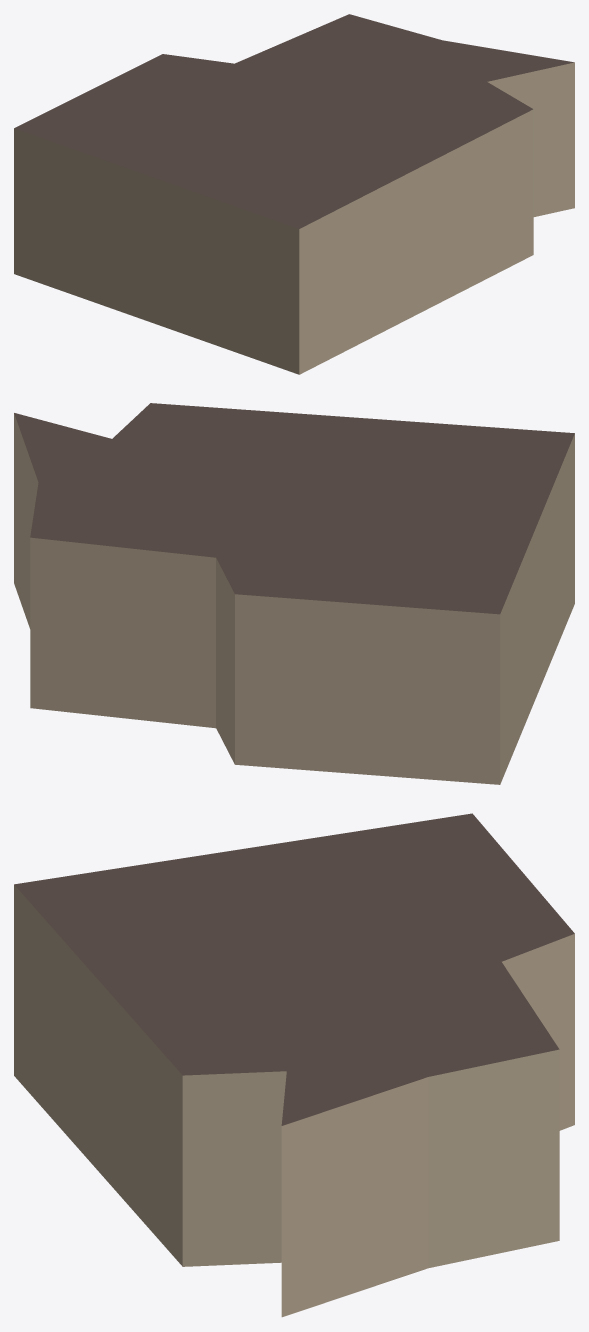
The picture shows the model from 3 angles, top to bottom: view 1: azimuth 30°, elevation 25°; view 2: azimuth 150°, elevation 25°; view 3: azimuth 270°, elevation 25°; orthographic projection. The views are drawn at different scales.
Parts seen in each view (by area): view 1: HP-w1512495274; view 2: HP-w1512495274; view 3: HP-w1512495274.
Boxes of the visible parts, box(x1,y1,x2,y2) form: HP-w1512495274: box(14, 14, 574, 374); HP-w1512495274: box(14, 403, 574, 784); HP-w1512495274: box(14, 813, 574, 1317).
Bounding box in the file's own units: 31.55 × 9 × 23.92.
